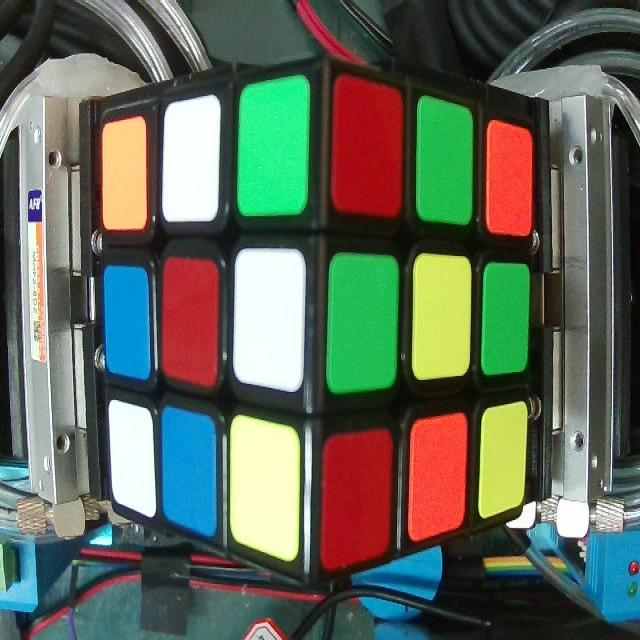b: (162, 410, 215, 530), (104, 272, 148, 375)
g: (332, 259, 396, 383), (242, 91, 302, 206), (242, 90, 301, 206), (418, 114, 471, 216), (484, 270, 528, 372)
o: (412, 422, 465, 524), (491, 137, 533, 228), (104, 127, 144, 222)
r: (324, 436, 388, 560), (338, 86, 401, 208), (167, 259, 214, 378)
w: (240, 254, 300, 382), (167, 110, 216, 213), (114, 413, 153, 503)
y: (232, 422, 298, 548), (417, 259, 465, 374), (484, 415, 522, 503)
